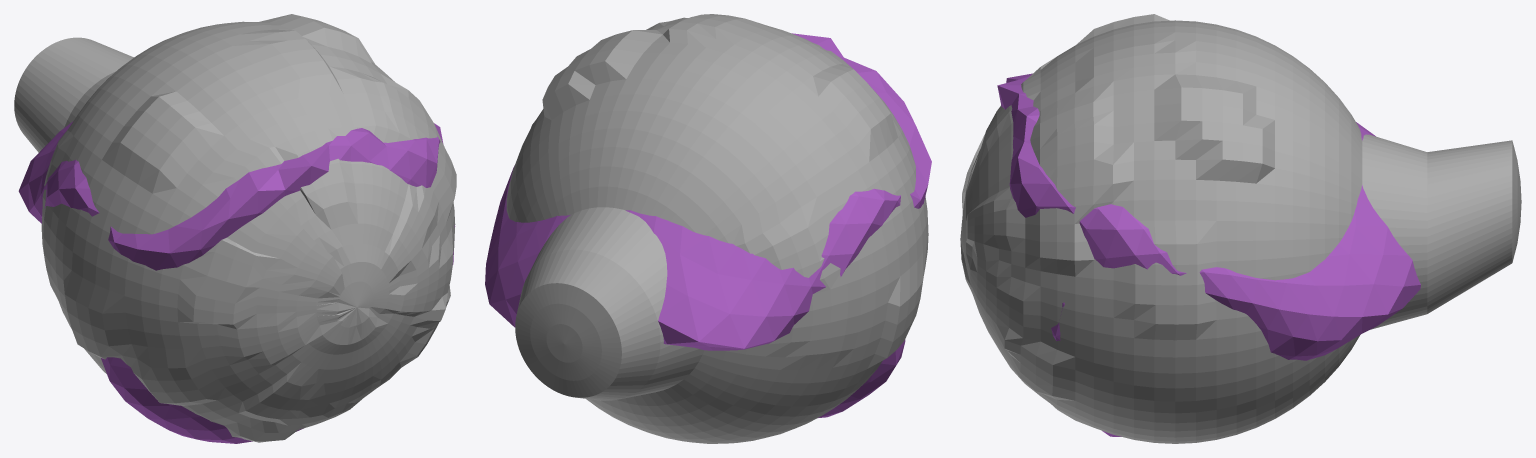
Rendered from G11_A2D_ALIGNED_GT.glb.
3 renders of one model, left to right at view 1: azimuth 30°, elevation 25°; view 2: azimuth 150°, elevation 25°; view 3: azimuth 270°, elevation 25°, orthographic. The views are drawn at different scales.
Visible parts, largest first — view 1: Independent_GT, A2D; view 2: Independent_GT, A2D; view 3: Independent_GT, A2D.
Part boxes in pixels (x1,y1,x2,y2): Independent_GT: [14, 14, 456, 442]; A2D: [18, 121, 455, 443]; Independent_GT: [506, 14, 928, 443]; A2D: [485, 33, 931, 417]; Independent_GT: [960, 14, 1521, 443]; A2D: [997, 73, 1420, 436].
Bounding box in the file's own units: 0.00572 × 0.00565 × 0.00741.
